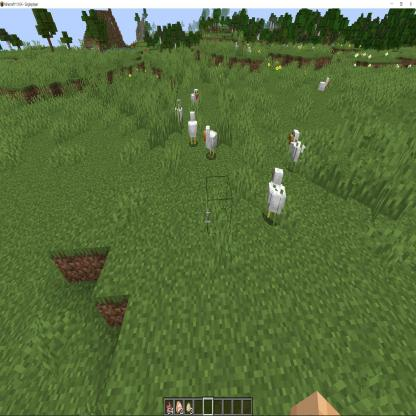minecraft-pigs: (266, 167, 286, 234), (288, 126, 307, 172), (203, 124, 220, 160), (173, 96, 185, 132), (188, 112, 198, 147), (318, 74, 331, 94), (190, 87, 200, 110), (244, 42, 254, 59), (234, 38, 242, 56)
